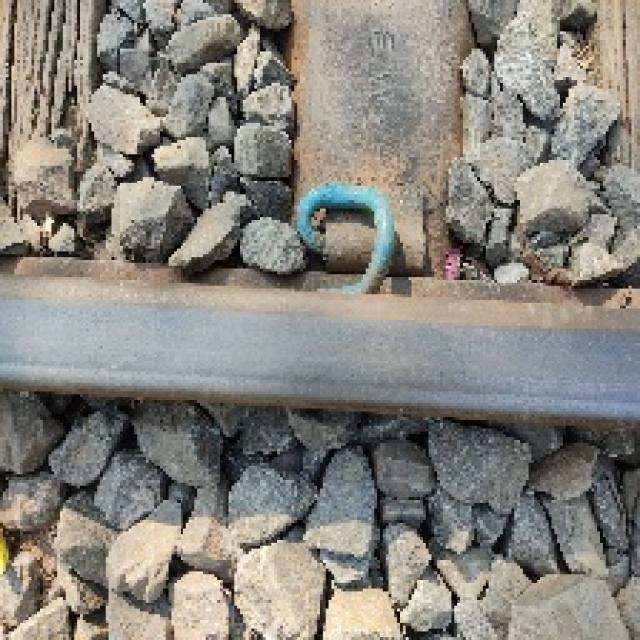Good Fasteners: (297, 183, 420, 289)
